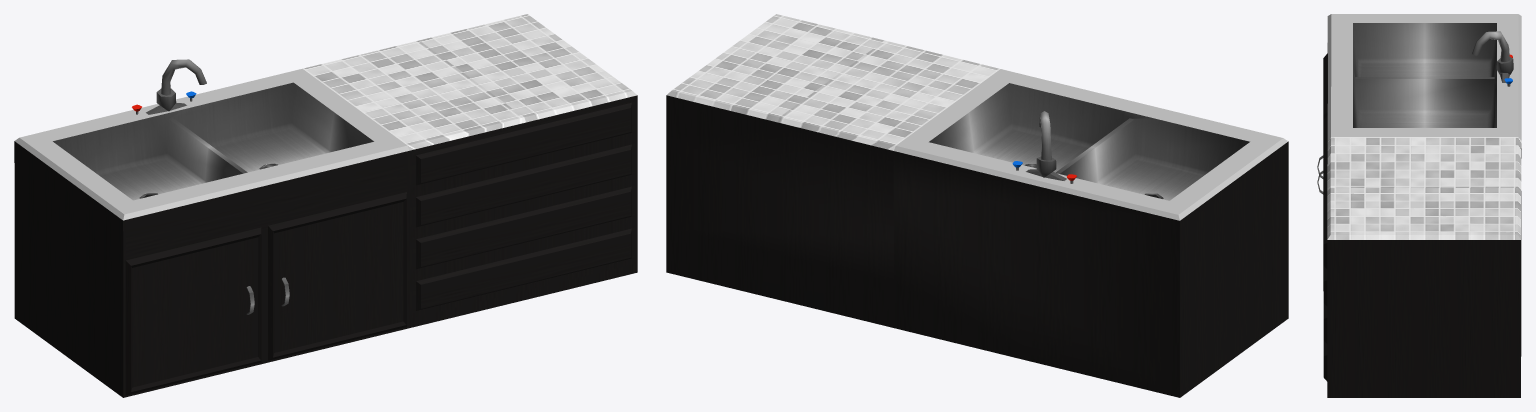
The model's file is Open_Kitchencounter_D_3.FBX.
3 renders of one model, left to right at view 1: azimuth 30°, elevation 25°; view 2: azimuth 150°, elevation 25°; view 3: azimuth 270°, elevation 25°, orthographic. The views are drawn at different scales.
Visible parts, largest first — view 1: Open_Counter_D, Door_ R_D, Door_ L_D, Drawer_D_2, Drawer_D_1, Drawer_D_3, Drawer_D_4; view 2: Open_Counter_D; view 3: Open_Counter_D, Drawer_D_1, Door_ L_D, Door_ R_D.
Part boxes in pixels (x1,y1,x2,y2): Open_Counter_D: (14, 14, 637, 397); Door_ R_D: (268, 192, 406, 360); Door_ L_D: (125, 227, 261, 395); Drawer_D_2: (416, 144, 631, 227); Drawer_D_1: (416, 102, 631, 185); Drawer_D_3: (416, 186, 631, 269); Drawer_D_4: (416, 228, 631, 310); Open_Counter_D: (666, 14, 1288, 397); Open_Counter_D: (1327, 14, 1521, 397); Drawer_D_1: (1323, 149, 1327, 268); Door_ L_D: (1317, 53, 1327, 178); Door_ R_D: (1317, 115, 1327, 290).
Size of the model in its own units: 410 by 179 by 158.
